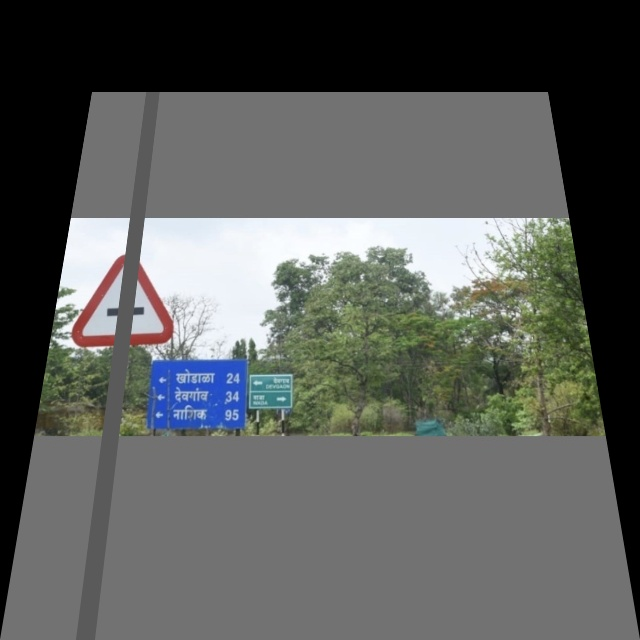T_Intersection: (66, 252, 185, 356)
